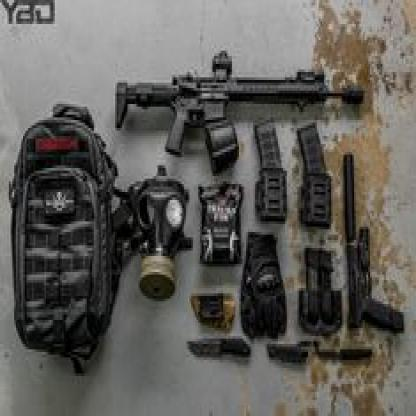Gun: (115, 48, 365, 174)
Knife: (185, 335, 253, 361), (316, 344, 372, 363)
Pistol: (343, 148, 405, 335)
